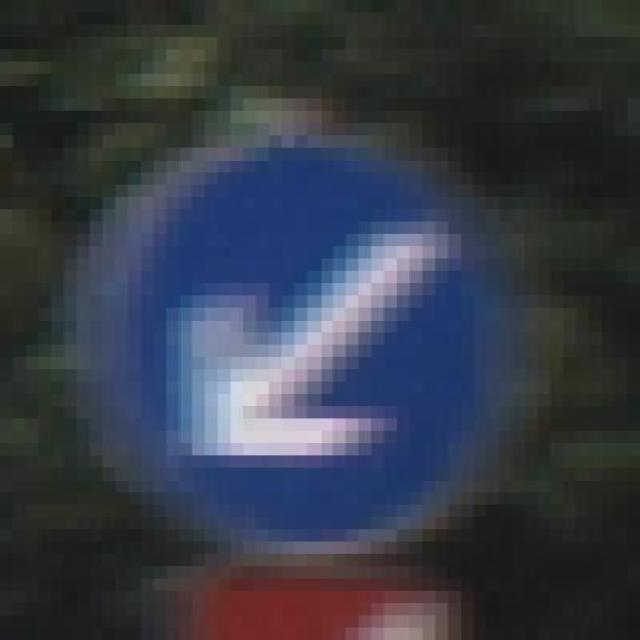Keep-Left: (115, 110, 487, 542)
